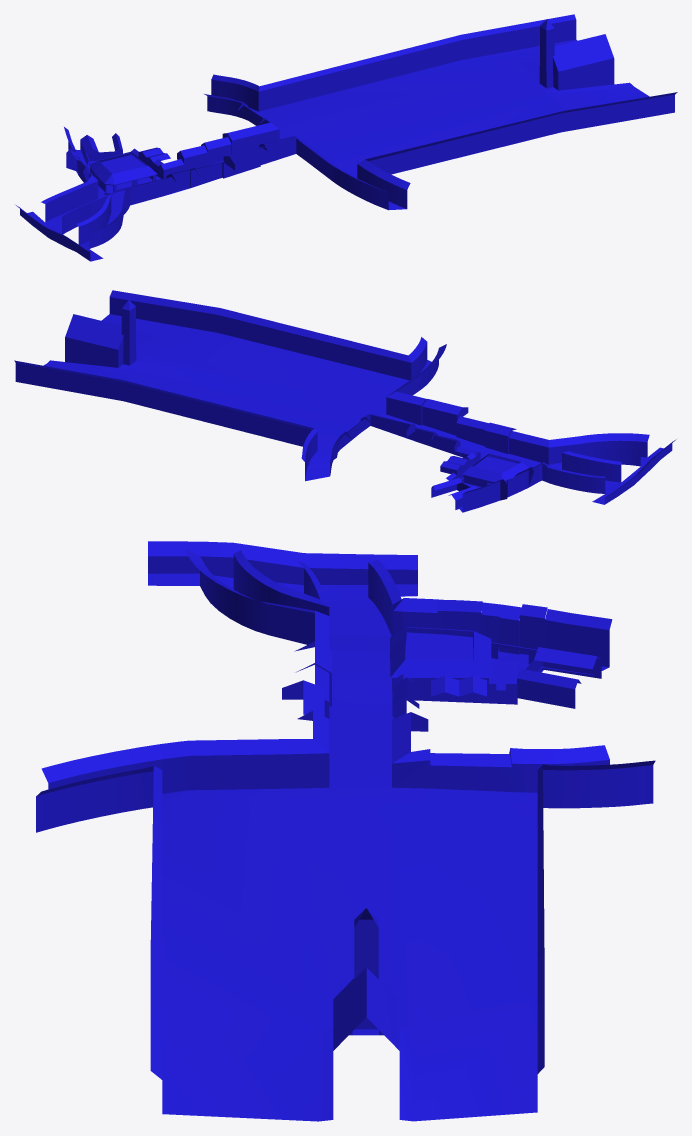
Rendered from NewMap.fbx.
The picture shows the model from 3 angles, top to bottom: view 1: azimuth 30°, elevation 25°; view 2: azimuth 150°, elevation 25°; view 3: azimuth 270°, elevation 25°; orthographic projection. The views are drawn at different scales.
Visible parts, largest first — view 1: Plane, toit, Plane.006; view 2: Plane, toit, Plane.006; view 3: Plane, toit, Plane.006.
Part boxes in pixels (x1,y1,x2,y2): Plane: [16, 14, 677, 261]; toit: [89, 152, 157, 184]; Plane.006: [80, 133, 122, 161]; Plane: [14, 290, 676, 512]; toit: [462, 453, 529, 481]; Plane.006: [431, 478, 476, 509]; Plane: [36, 541, 655, 1121]; toit: [390, 627, 491, 677]; Plane.006: [517, 647, 601, 708].
Bounding box in the file's own units: 25221 × 3321 × 11969.
